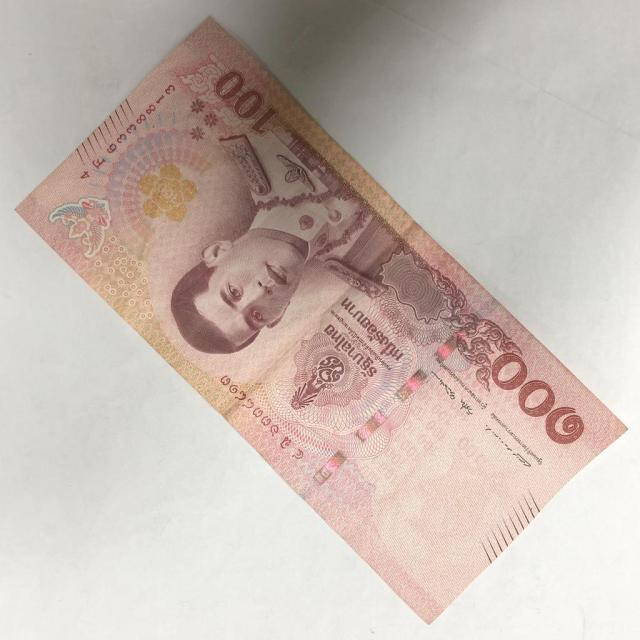THAI100: (19, 20, 625, 622)
